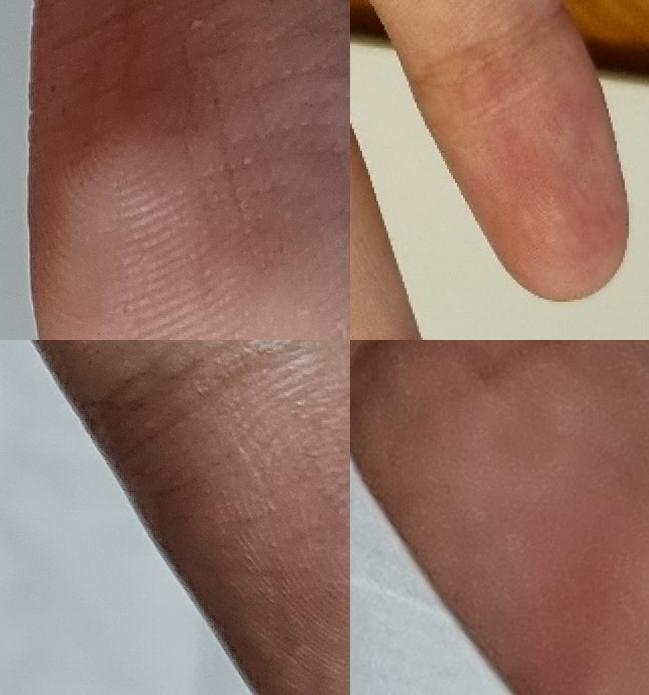Fingerprints: (369, 340, 649, 695), (102, 340, 350, 695), (407, 5, 627, 302)
